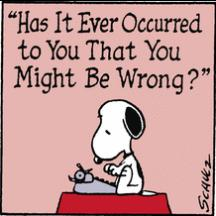snoopy: (91, 98, 159, 196)
